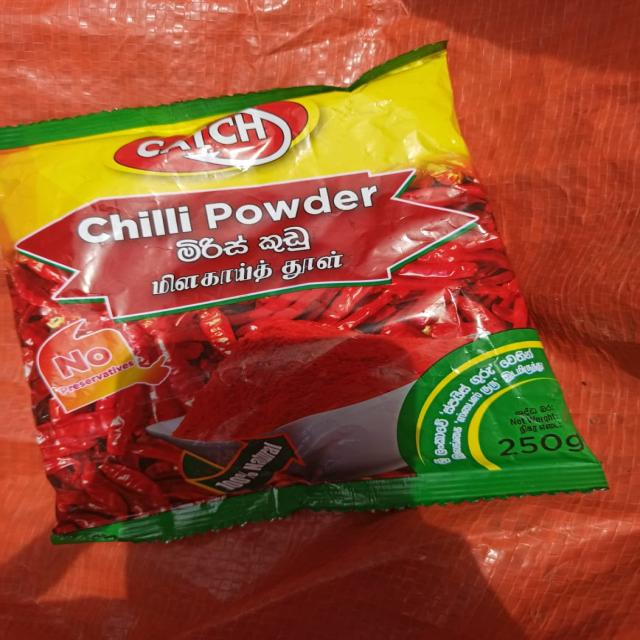Chilli Powder: (0, 58, 639, 568)
